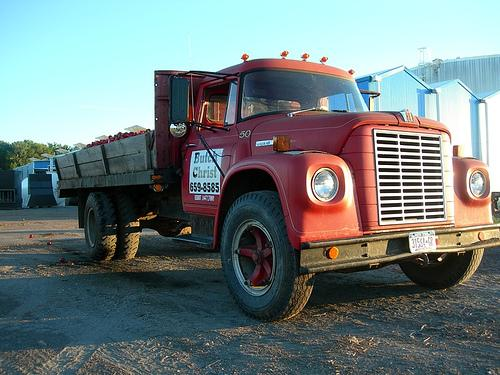truck: (52, 50, 500, 323)
